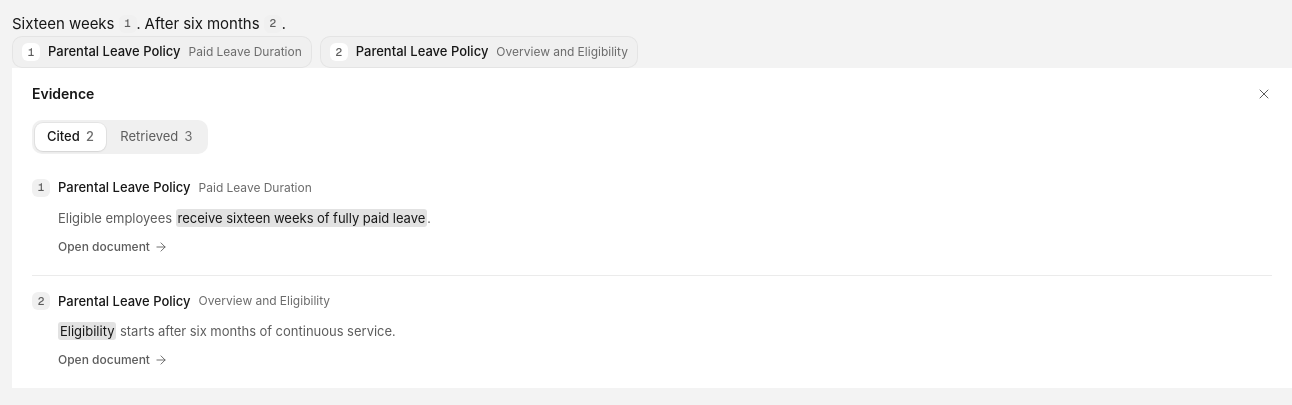
Scenario: EvidencePanel › switches between Cited and Retrieved
Expected: the text "Employee Handbook" is not shown
Step 1. Click the tab "Retrieved 3" → (156, 137), box [108,123,205,151]
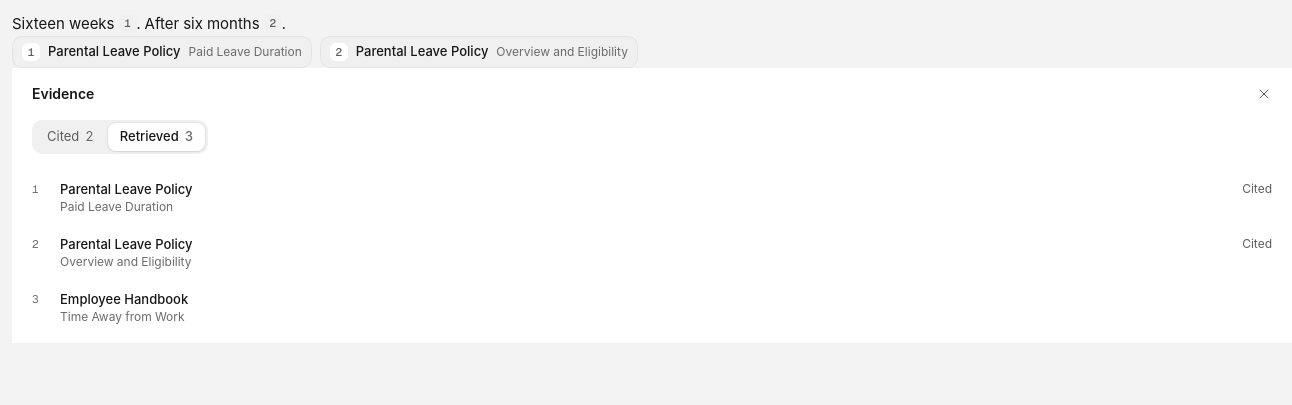
Now the text "Employee Handbook" is shown, box [60,291,188,307]
Now the text "Cited" is shown 2 times, box [1242,181,1272,197]; [1242,236,1272,252]
Step 2. Click the tab "Cited 2" → (70, 137), box [35,123,106,151]
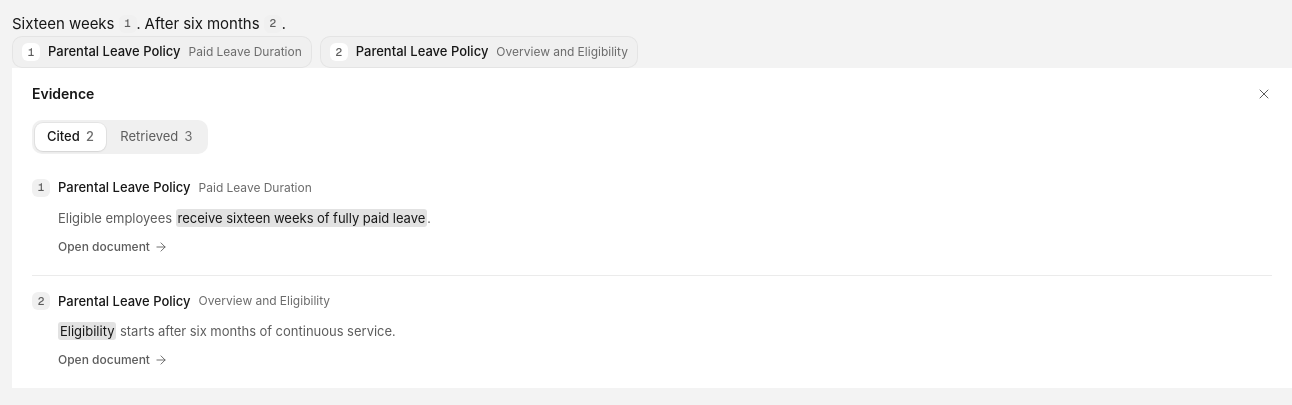
Now the text "Employee Handbook" is gone
